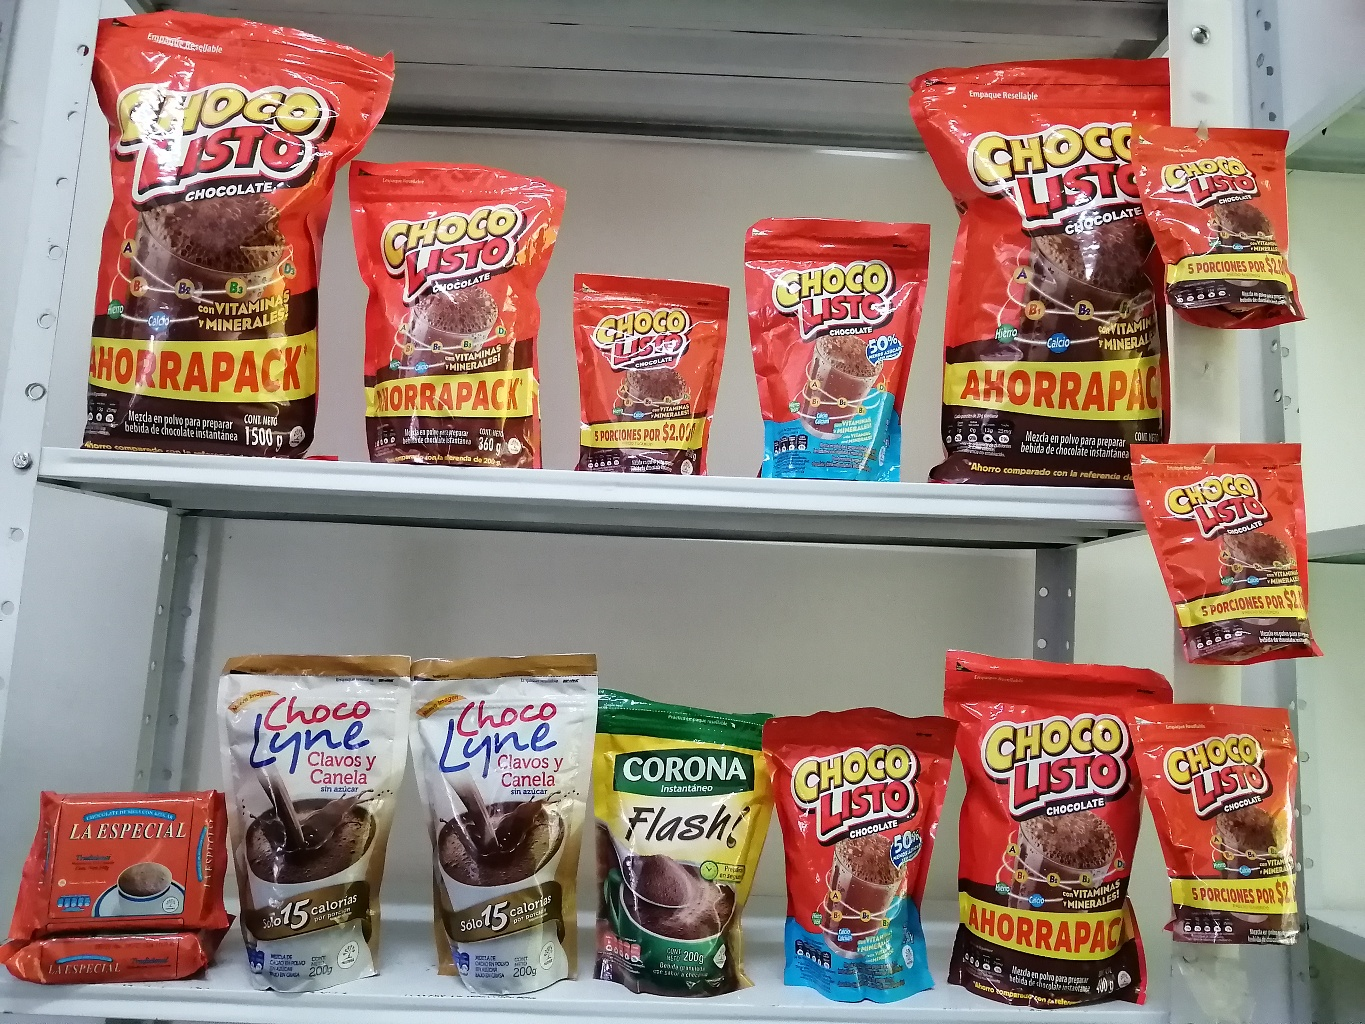COL0170103DYP1,500: (93, 9, 365, 460)
COL0170103DYP10000: (567, 259, 729, 483)
COL0170103DYP36000: (353, 141, 561, 467)
COL0170103DYP40000: (937, 655, 1168, 1010)
COL0170104DYP20000: (743, 219, 925, 489)
